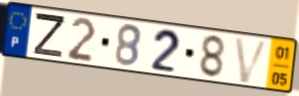2: (147, 27, 185, 77), (66, 16, 99, 65)
8: (113, 23, 143, 69), (198, 33, 228, 79)
V: (232, 35, 272, 85)
Z: (32, 10, 67, 59)
